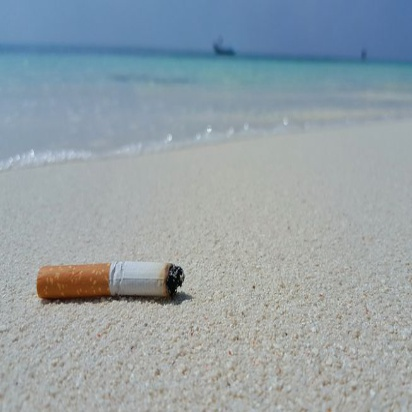cigarette: (29, 250, 193, 314)
